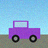vehicle: (9, 21, 40, 42)
